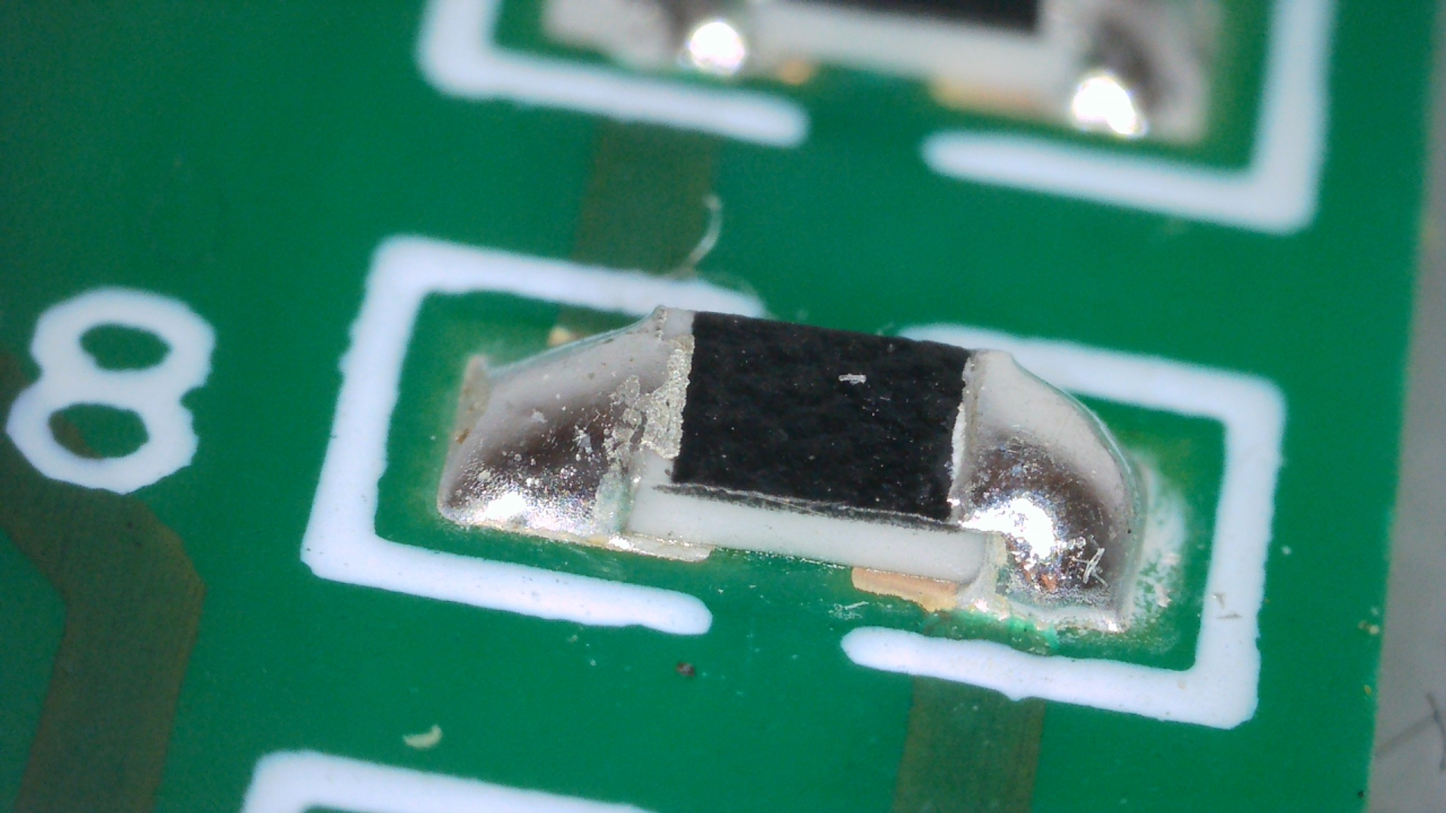NG: (434, 307, 696, 546), (947, 349, 1138, 635)
